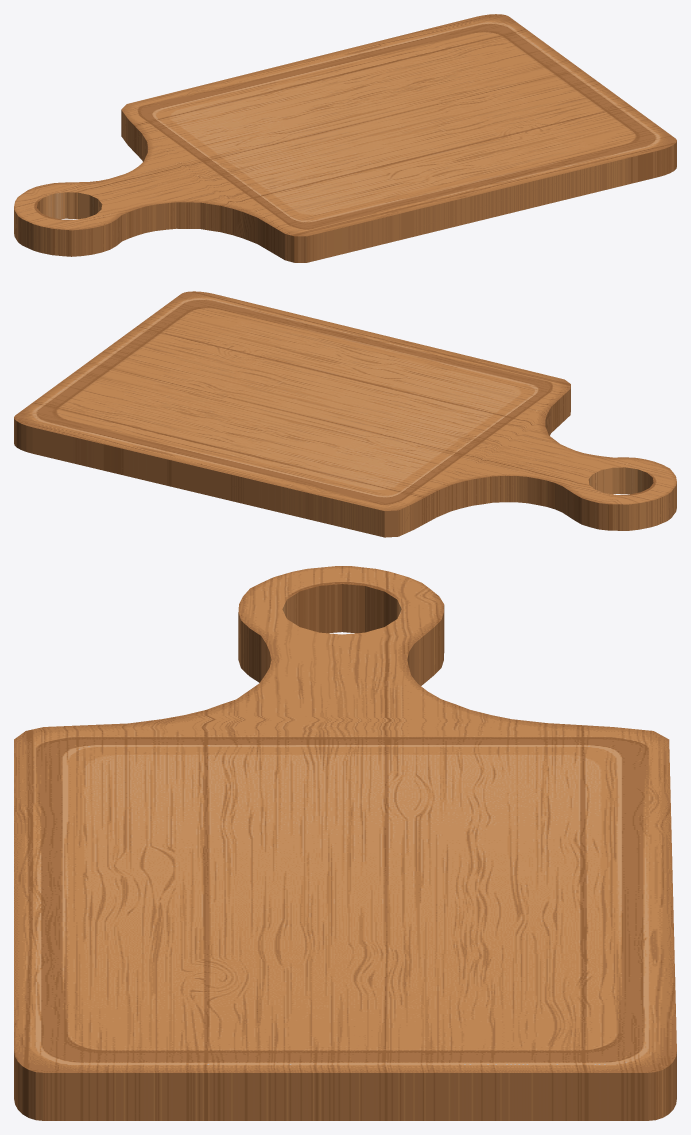
The model's file is ChoppingBoard.fbx.
The picture shows the model from 3 angles, top to bottom: view 1: azimuth 30°, elevation 25°; view 2: azimuth 150°, elevation 25°; view 3: azimuth 270°, elevation 25°; orthographic projection. The views are drawn at different scales.
Parts seen in each view (by area): view 1: Cube.001; view 2: Cube.001; view 3: Cube.001.
Boxes of the visible parts, box(x1,y1,x2,y2) form: Cube.001: box(14, 14, 676, 262); Cube.001: box(14, 291, 676, 537); Cube.001: box(14, 566, 676, 1120).
Bounding box in the file's own units: 452 × 20 × 250.
